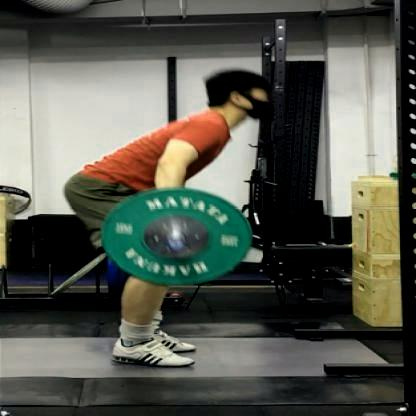Barbell: (161, 237, 193, 256)
